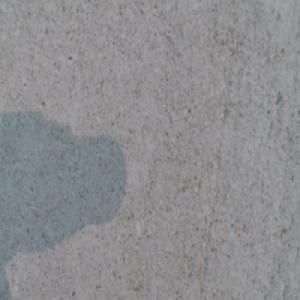Washer: (134, 286, 158, 300)
